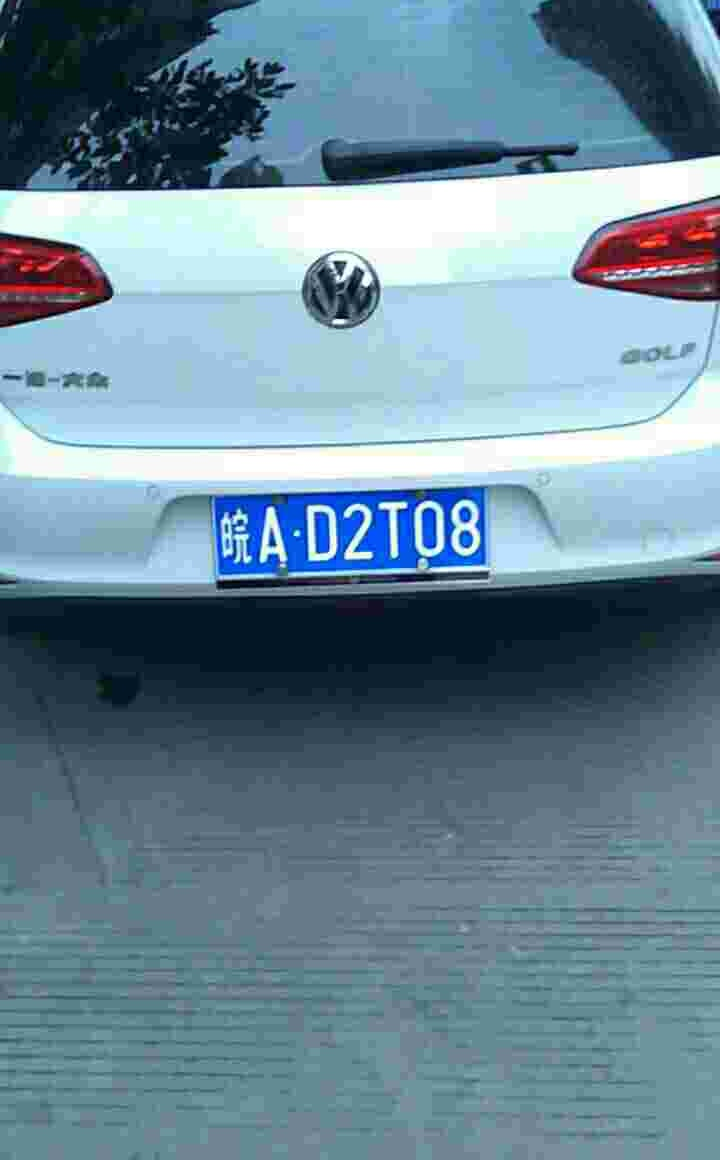license_plate: (212, 498, 496, 577)
